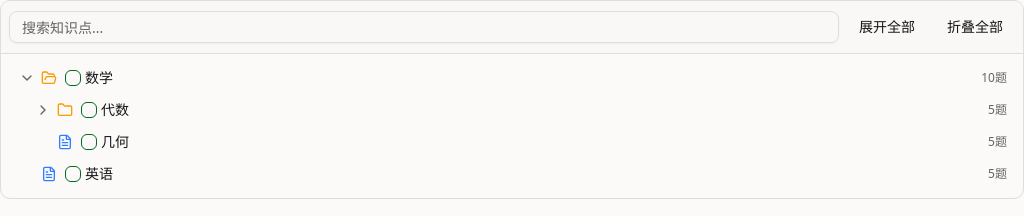
Test: KeypointTree Component › filters nodes based on search term
In the field with placeholder "搜索知识点...": point(424, 27) [9,11,839,43], type "几何"
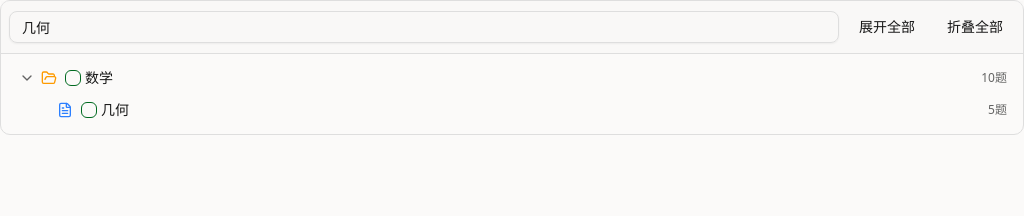
Expected: the text "几何" is shown, [101,100,129,119]
Expected: the text "代数" is gone
